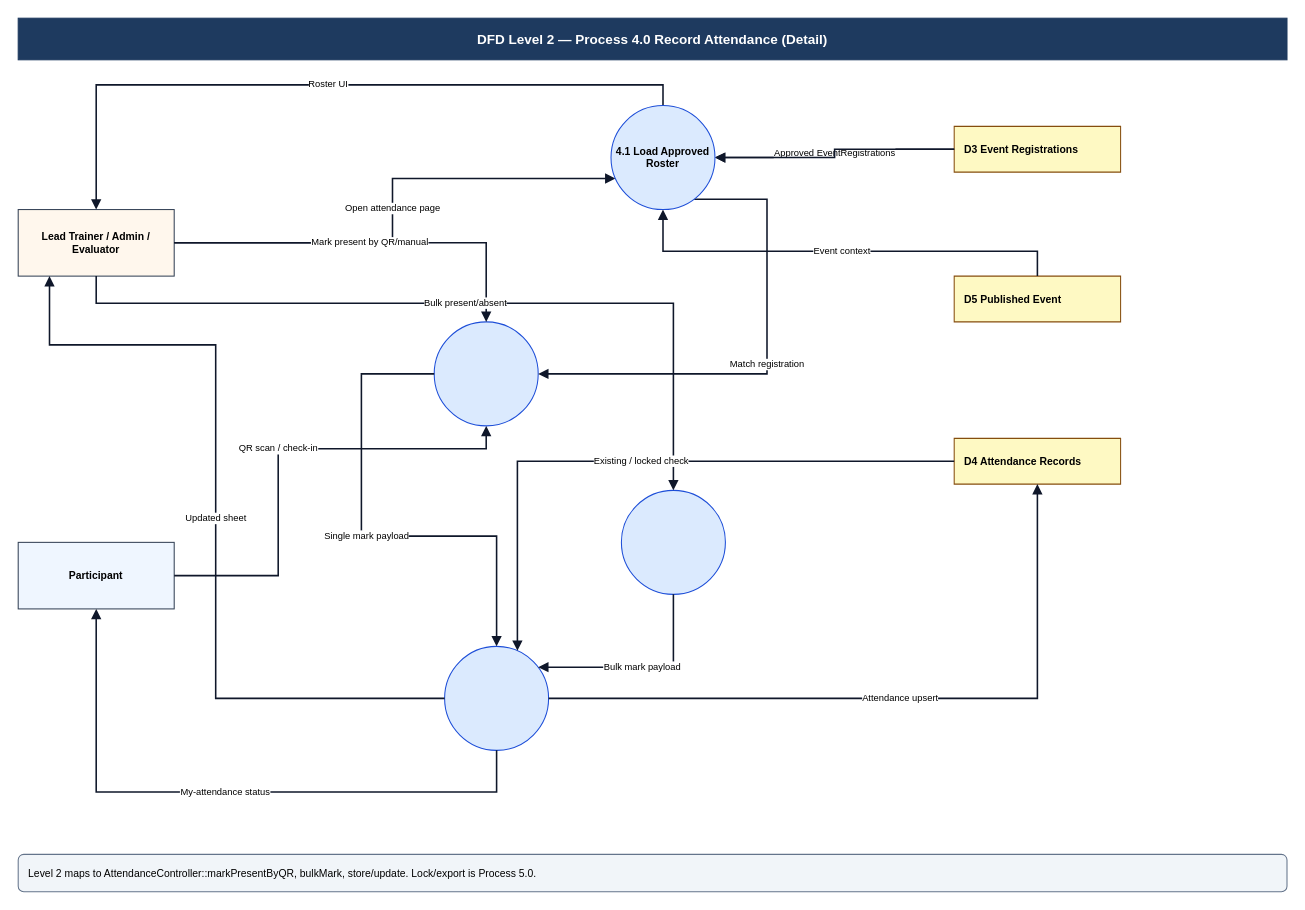
Image size: 1305x910. Some labels were removed from this diagram. Here are the shapes that lost their labels. From the top down, the centre of each, then its label:
At (x=485, y=373): "4.2 Mark Present (QR / Manual)".
At (x=672, y=541): "4.3 Bulk Mark / Update Status".
At (x=496, y=697): "4.4 Validate & Persist Record".
